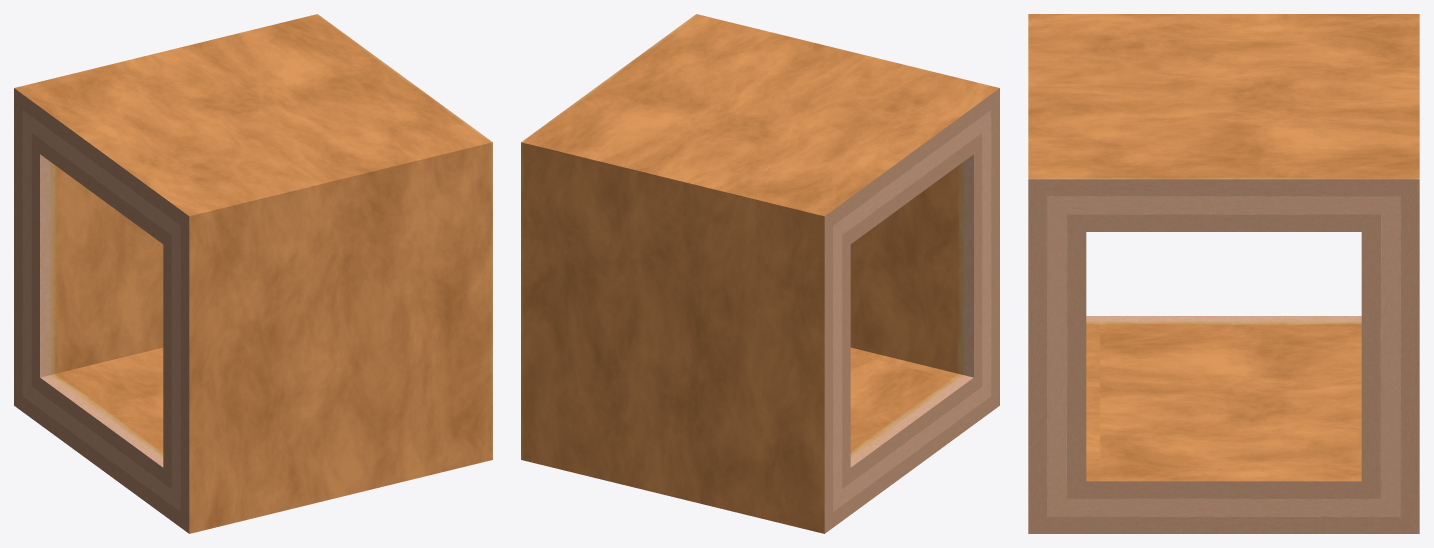
The model's file is Chair_1.fbx.
3 renders of one model, left to right at view 1: azimuth 30°, elevation 25°; view 2: azimuth 150°, elevation 25°; view 3: azimuth 270°, elevation 25°, orthographic. The views are drawn at different scales.
Parts seen in each view (by area): view 1: Chair_1; view 2: Chair_1; view 3: Chair_1.
Boxes of the visible parts, x1,y1,x2,y2 form: Chair_1: (14,14,492,533); Chair_1: (521,14,999,533); Chair_1: (1028,14,1419,533).
Size of the model in its own units: 0.4466 by 0.4466 by 0.4466.
